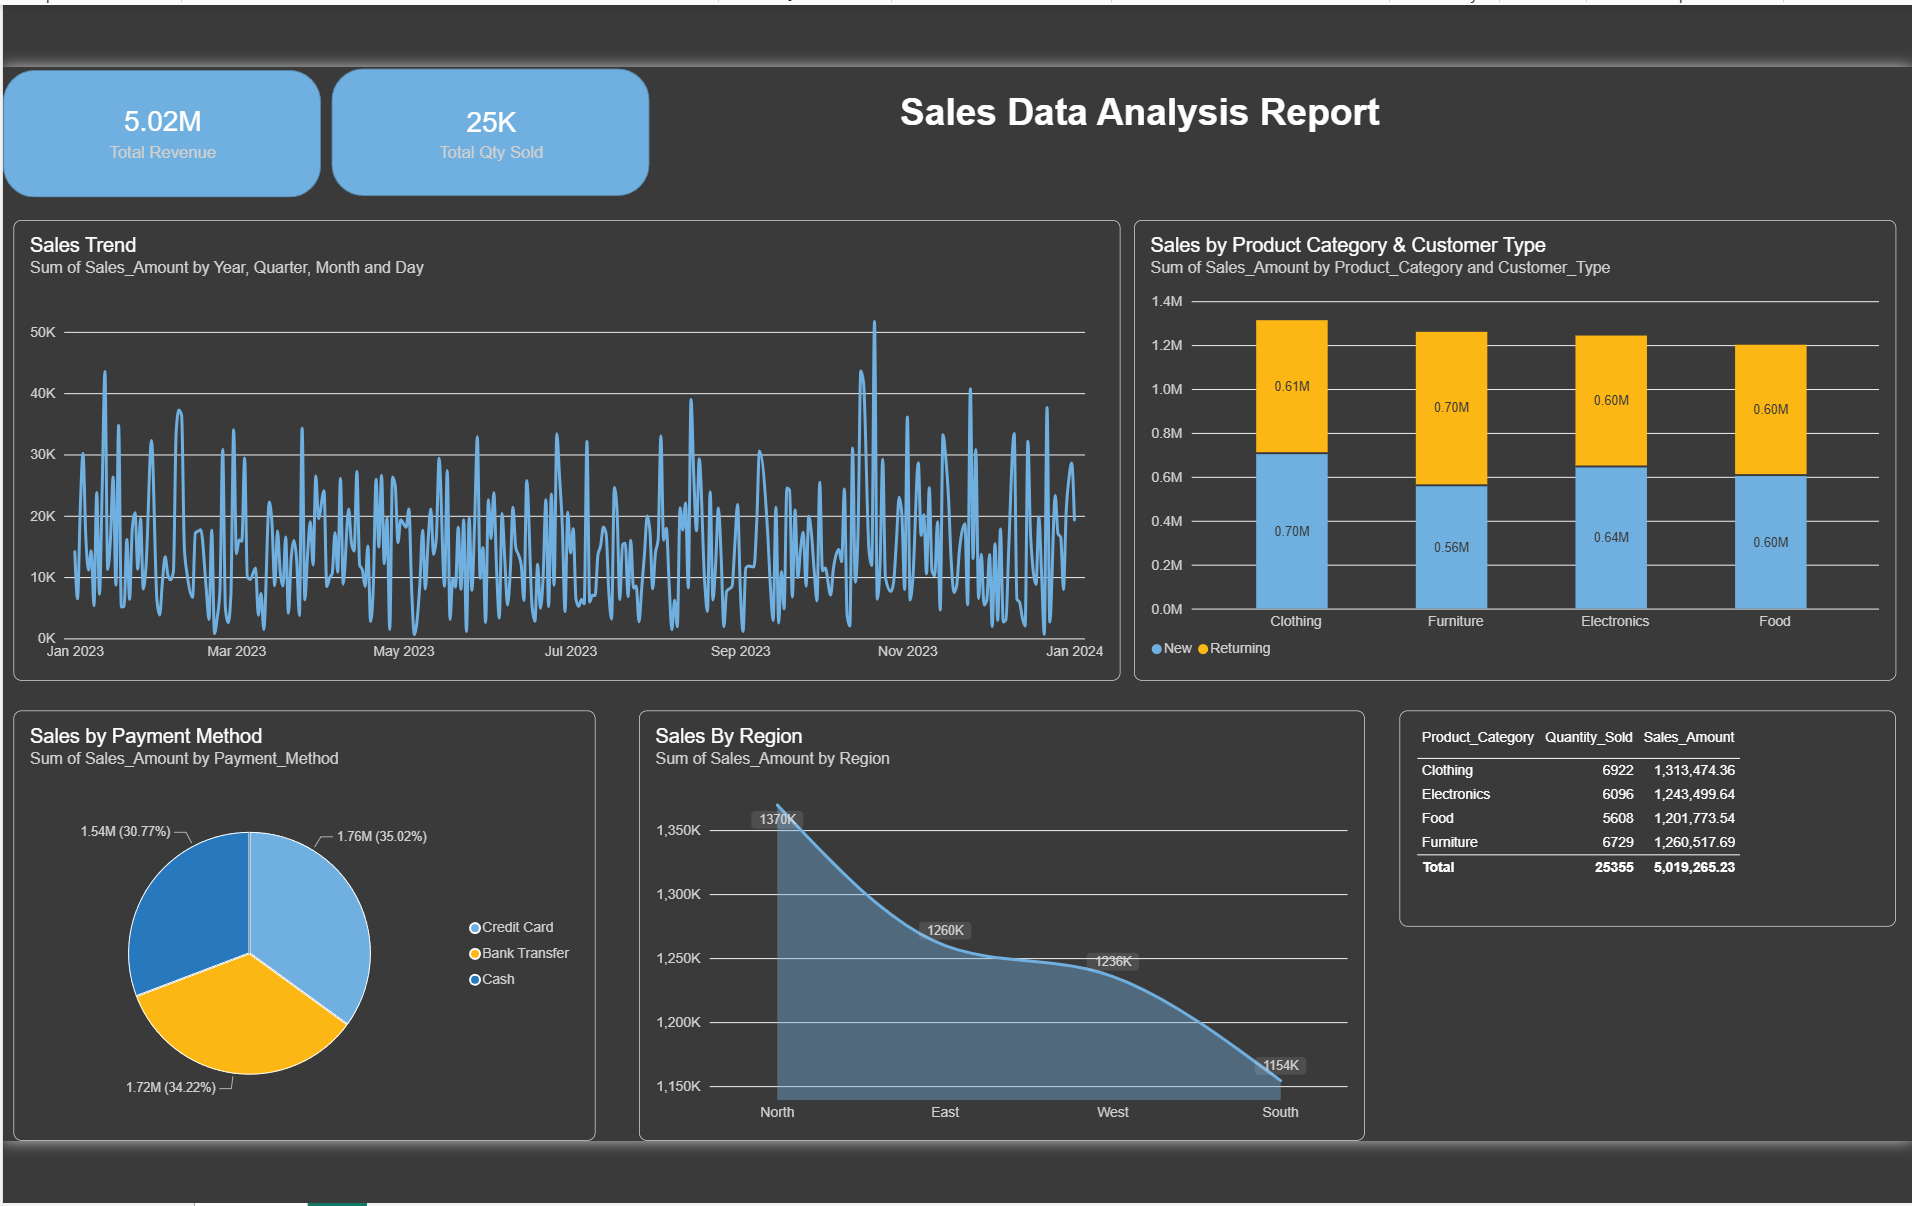

The page's visual inventory and layout, read from the dashboard file:
{"tool":"powerbi","page":{"name":"Page 1","canvas":[1920,1080],"ordinal":0},"visuals":[{"type":"shape","box":[330.4,1.5,319.8,128.2],"z":0},{"type":"shape","box":[0,3,319.8,128.2],"z":1000},{"type":"card","fields":{"Values":["sales-data.Total Revenue"]},"box":[54.3,9.1,212.7,111.6],"z":2000},{"type":"card","fields":{"Values":["sales-data.Total Qty Sold"]},"box":[381.7,9.1,218.8,113.1],"z":3000},{"type":"lineChart","title":"Sales Trend","fields":{"Category":["sales-data.Sale_Date.Variation.Date Hierarchy.Year","sales-data.Sale_Date.Variation.Date Hierarchy.Quarter","sales-data.Sale_Date.Variation.Date Hierarchy.Month","sales-data.Sale_Date.Variation.Date Hierarchy.Day"],"Y":["Sum(sales-data.Sales_Amount)"]},"box":[10.6,153.9,1113.4,463.2],"z":4000},{"type":"columnChart","title":"Sales by Product Category & Customer Type","fields":{"Category":["sales-data.Product_Category"],"Series":["sales-data.Customer_Type"],"Y":["Sum(sales-data.Sales_Amount)"]},"box":[1137.5,153.9,766.4,463.2],"z":5000},{"type":"pieChart","title":"Sales by Payment Method","fields":{"Category":["sales-data.Payment_Method"],"Y":["Sum(sales-data.Sales_Amount)"]},"box":[10.6,647.2,585.4,433],"z":6000},{"type":"areaChart","title":"Sales By Region","fields":{"Category":["sales-data.Region"],"Y":["Sum(sales-data.Sales_Amount)"]},"box":[639.7,647.2,730.2,433],"z":7000},{"type":"tableEx","fields":{"Values":["sales-data.Product_Category","Sum(sales-data.Quantity_Sold)","Sum(sales-data.Sales_Amount)"]},"box":[1404.6,647.2,499.4,217.2],"z":8000},{"type":"textbox","box":[902.2,24.1,502.4,105.6],"z":9000}]}

Visuals, with their boxes on the page's 1920x1080 design canvas (x1, y1, x2, y2). These are canvas units, not pixel positions in the 1912x1206 screenshot, which may show the page scaled, cropped or inside an application window:
shape: pyautogui.locateOnScreen(330, 2, 650, 130)
shape: pyautogui.locateOnScreen(0, 3, 320, 131)
card - sales-data.Total Revenue: pyautogui.locateOnScreen(54, 9, 267, 121)
card - sales-data.Total Qty Sold: pyautogui.locateOnScreen(382, 9, 600, 122)
"Sales Trend" lineChart: pyautogui.locateOnScreen(11, 154, 1124, 617)
"Sales by Product Category & Customer Type" columnChart: pyautogui.locateOnScreen(1138, 154, 1904, 617)
"Sales by Payment Method" pieChart: pyautogui.locateOnScreen(11, 647, 596, 1080)
"Sales By Region" areaChart: pyautogui.locateOnScreen(640, 647, 1370, 1080)
tableEx - sales-data.Product_Category x Sum(sales-data.Quantity_Sold): pyautogui.locateOnScreen(1405, 647, 1904, 864)
textbox: pyautogui.locateOnScreen(902, 24, 1405, 130)
